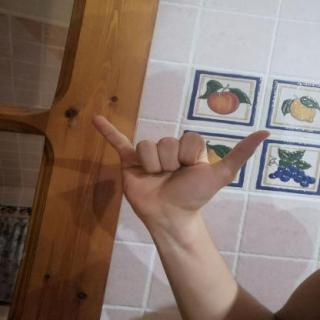YA: (76, 106, 282, 222)
